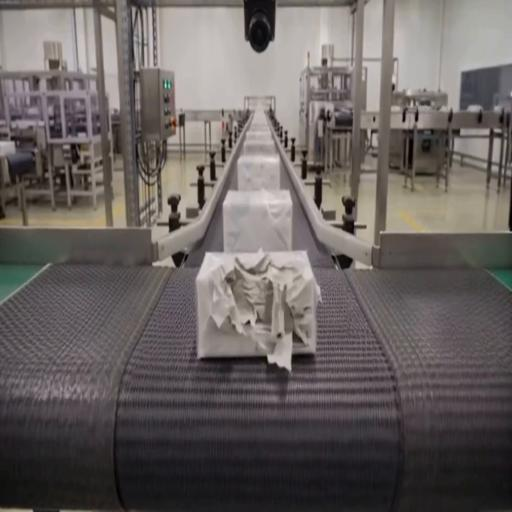defective: (195, 248, 318, 362)
good: (221, 188, 293, 254), (237, 155, 282, 192), (243, 128, 276, 152), (247, 107, 272, 127), (253, 101, 267, 114)
